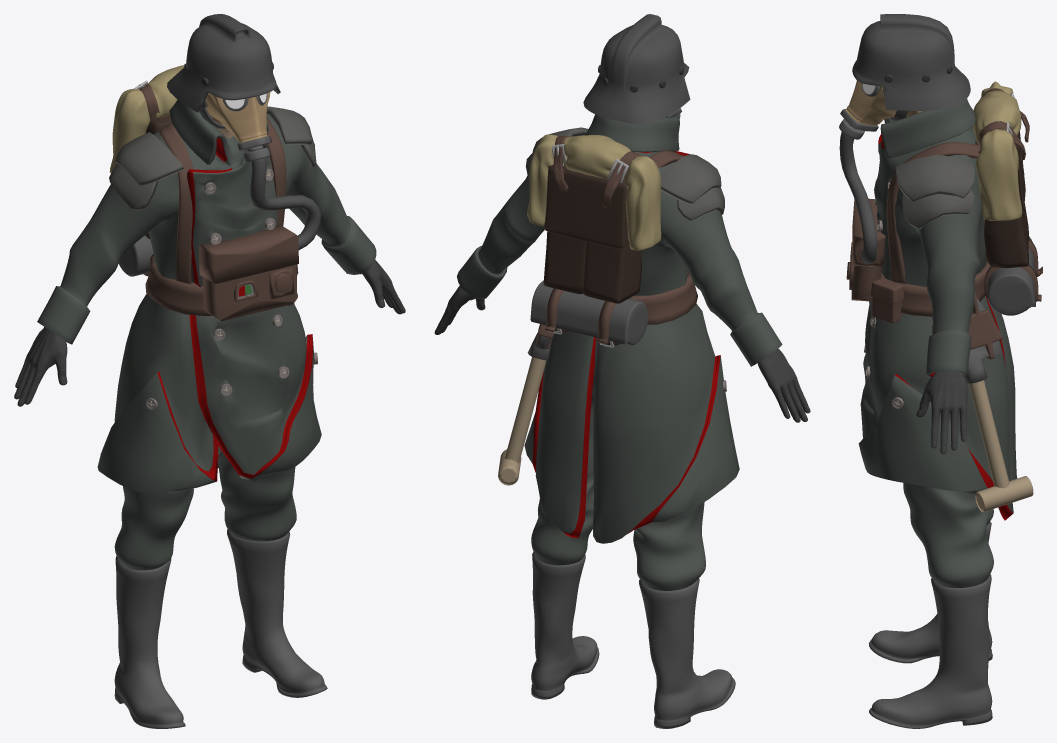
File: krieger.fbx
The picture shows the model from 3 angles, left to right: view 1: azimuth 30°, elevation 25°; view 2: azimuth 150°, elevation 25°; view 3: azimuth 270°, elevation 25°; orthographic projection. The views are drawn at different scales.
Parts seen in each view (by area): view 1: trenchcoat_lower, trenchcoat_upper, pants3, right_bootmesh_GRP, left_leg:right_bootmesh_GRP, helmet4, respirator3, backpack18, respirator4, belt4, right_hand, shoulderpads2 (+9 smaller); view 2: trenchcoat_lower, trenchcoat_upper, helmet4, pants3, left_leg:right_bootmesh_GRP, backpack18, right_bootmesh_GRP, backpack10, backpack13, backpack7, shoulderpads2, right_hand (+5 smaller); view 3: trenchcoat_lower, trenchcoat_upper, right_bootmesh_GRP, helmet4, pants3, backpack18, shoulderpads4, left_hand, left_leg:right_bootmesh_GRP, backpack10, backpack7, belt6 (+14 smaller).
Boxes of the visible parts, bbox=[...] form: trenchcoat_lower: bbox=[97, 271, 321, 494]; trenchcoat_upper: bbox=[37, 99, 376, 344]; pants3: bbox=[114, 450, 296, 570]; right_bootmesh_GRP: bbox=[227, 529, 327, 697]; left_leg:right_bootmesh_GRP: bbox=[114, 556, 185, 728]; helmet4: bbox=[167, 14, 280, 112]; respirator3: bbox=[198, 224, 298, 283]; backpack18: bbox=[109, 65, 184, 172]; respirator4: bbox=[202, 264, 297, 321]; belt4: bbox=[159, 123, 193, 284]; right_hand: bbox=[14, 327, 67, 406]; shoulderpads2: bbox=[115, 132, 183, 185]; trenchcoat_lower: bbox=[524, 274, 739, 543]; trenchcoat_upper: bbox=[457, 114, 782, 366]; helmet4: bbox=[583, 14, 690, 124]; pants3: bbox=[531, 338, 705, 590]; left_leg:right_bootmesh_GRP: bbox=[639, 578, 735, 728]; backpack18: bbox=[527, 134, 661, 250]; right_bootmesh_GRP: bbox=[531, 552, 599, 699]; backpack10: bbox=[543, 186, 642, 303]; backpack13: bbox=[544, 164, 626, 248]; backpack7: bbox=[530, 280, 648, 345]; shoulderpads2: bbox=[660, 154, 721, 203]; right_hand: bbox=[757, 348, 810, 422]; trenchcoat_lower: bbox=[858, 278, 1017, 520]; trenchcoat_upper: bbox=[874, 99, 985, 377]; right_bootmesh_GRP: bbox=[869, 574, 992, 728]; helmet4: bbox=[852, 14, 970, 110]; pants3: bbox=[903, 483, 993, 587]; backpack18: bbox=[973, 81, 1022, 220]; shoulderpads4: bbox=[896, 154, 974, 201]; left_hand: bbox=[916, 370, 967, 454]; left_leg:right_bootmesh_GRP: bbox=[869, 521, 992, 663]; backpack10: bbox=[972, 126, 1028, 268]; backpack7: bbox=[987, 236, 1035, 315]; belt6: bbox=[886, 142, 980, 283].
Bounding box in the file's own units: 111 × 189 × 51.98.
